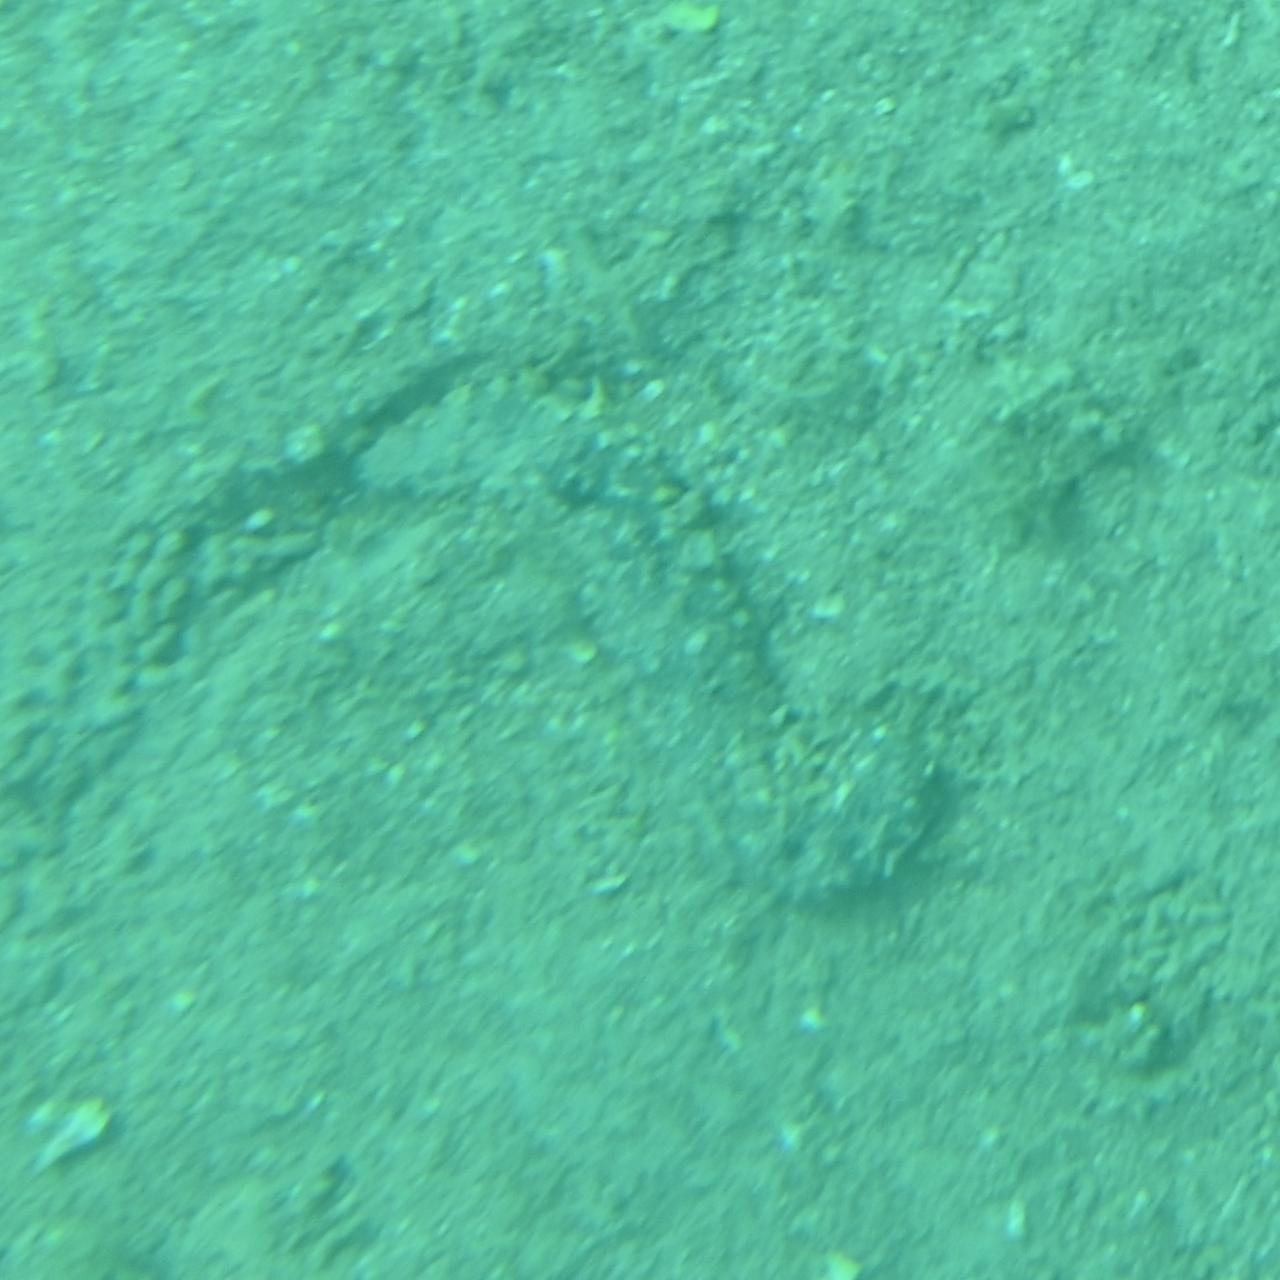Holothuria tubulosa: (331, 332, 949, 948)
